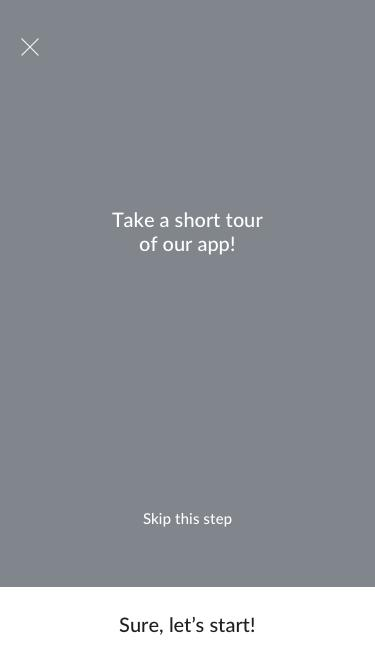Icon: (19, 37, 42, 57)
Text: (112, 212, 264, 257), (142, 511, 233, 527)
TextButton: (1, 586, 375, 667)
